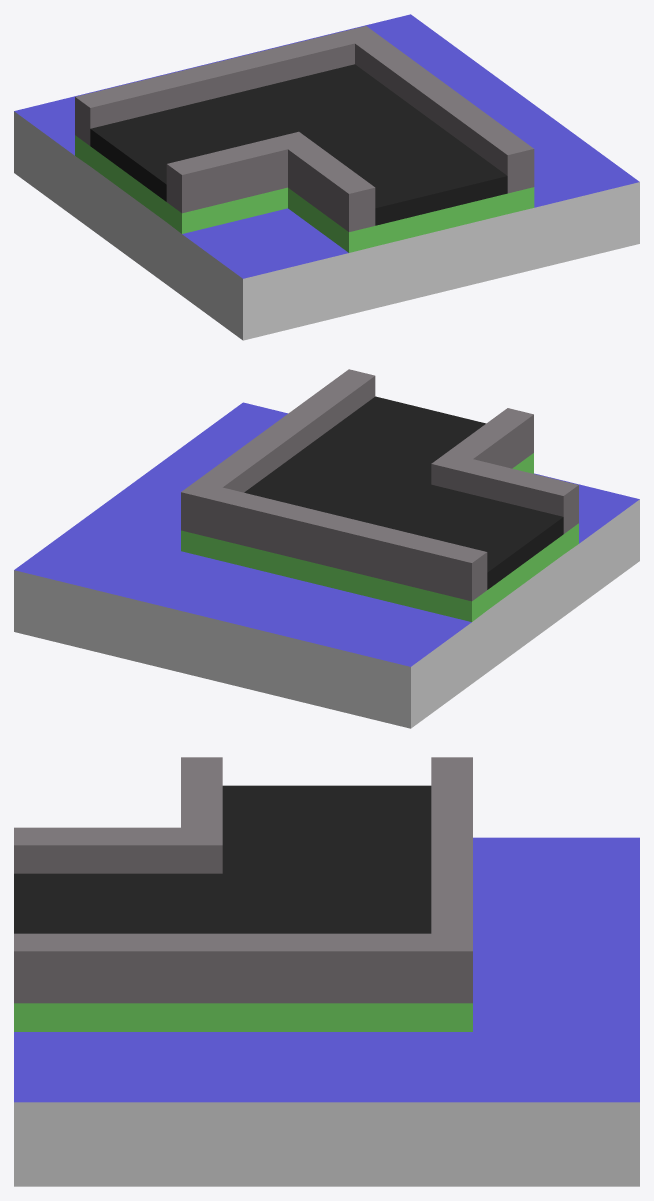
The model's file is RoadStreetCurveLake.fbx.
The picture shows the model from 3 angles, top to bottom: view 1: azimuth 30°, elevation 25°; view 2: azimuth 150°, elevation 25°; view 3: azimuth 270°, elevation 25°; orthographic projection. The views are drawn at different scales.
Parts seen in each view (by area): view 1: RoadStreetCurveLake; view 2: RoadStreetCurveLake; view 3: RoadStreetCurveLake.
Part boxes in pixels (bbox=[...]): RoadStreetCurveLake: bbox=[14, 14, 639, 340]; RoadStreetCurveLake: bbox=[14, 369, 639, 728]; RoadStreetCurveLake: bbox=[14, 757, 639, 1186].
Bounding box in the file's own units: 200 × 200 × 58.18.
